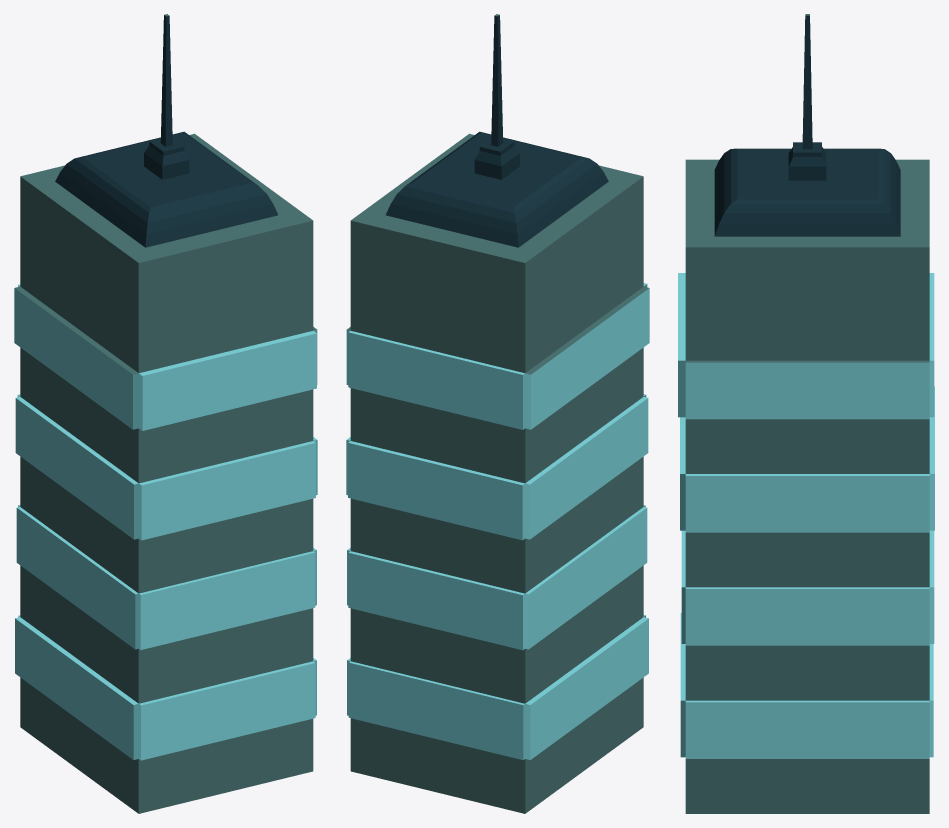
File: bina_001.fbx
3 views of the same model, side by side, from view 1: azimuth 30°, elevation 25°; view 2: azimuth 150°, elevation 25°; view 3: azimuth 270°, elevation 25° (orthographic). The views are drawn at different scales.
Visible parts, largest first — view 1: Cube.001; view 2: Cube.001; view 3: Cube.001.
Boxes of the visible parts, left/top/right/bottom form: Cube.001: left=14, top=14, right=317, bottom=813; Cube.001: left=346, top=14, right=649, bottom=813; Cube.001: left=678, top=14, right=934, bottom=813.
Size of the model in its own units: 299 by 1136 by 350.
